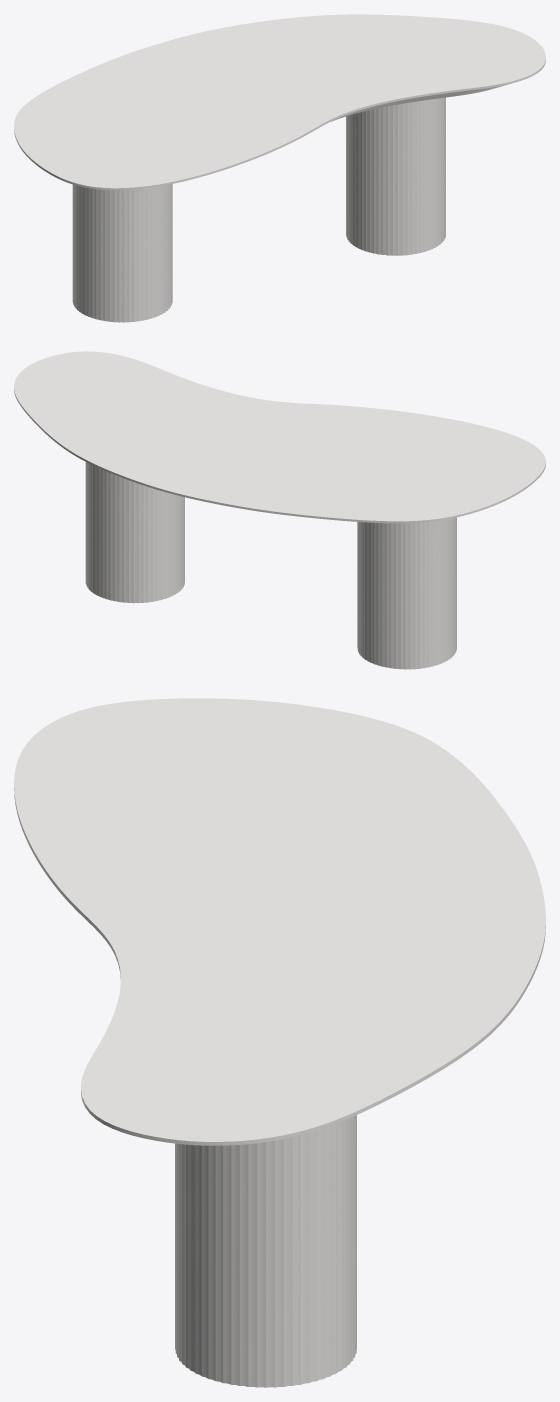
File: purewhite_leaf1_facet_ripplesecond.glb
The picture shows the model from 3 angles, top to bottom: view 1: azimuth 30°, elevation 25°; view 2: azimuth 150°, elevation 25°; view 3: azimuth 270°, elevation 25°; orthographic projection. The views are drawn at different scales.
Visible parts, largest first — view 1: facet_leaf1, ripplesecond; view 2: facet_leaf1, ripplesecond; view 3: facet_leaf1, ripplesecond.
Part boxes in pixels (bbox=[...]): facet_leaf1: bbox=[14, 14, 545, 190]; ripplesecond: bbox=[72, 97, 445, 322]; facet_leaf1: bbox=[14, 351, 545, 523]; ripplesecond: bbox=[85, 462, 456, 669]; facet_leaf1: bbox=[14, 698, 545, 1145]; ripplesecond: bbox=[175, 1115, 356, 1387].
Bounding box in the file's own units: 7.5 × 2.5 × 3.8.
Materials: 1 (1 with a texture image).
